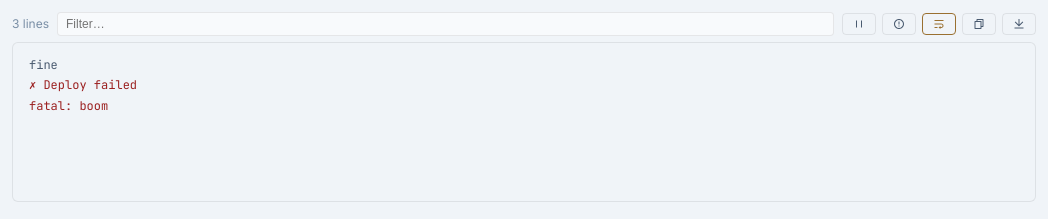
Test: StreamLog › errors-only keeps error kinds and error-looking lines
Click the button named "Errors only" at (899, 24), box [882,13,916,35]
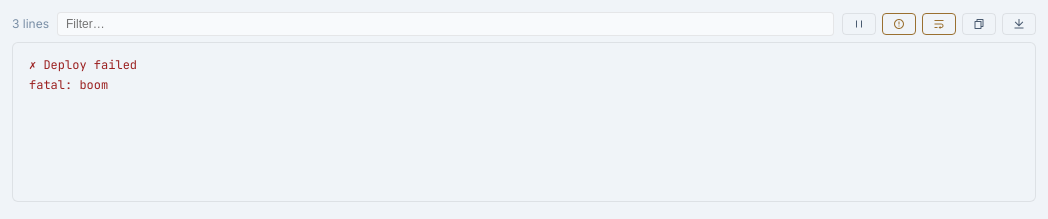
Check: the text "✗ Deploy failed" is shown, box [29,57,137,73]
Check: the text "fine" is gone
